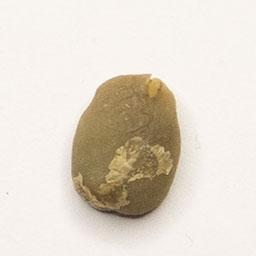premium: (66, 67, 185, 220)
